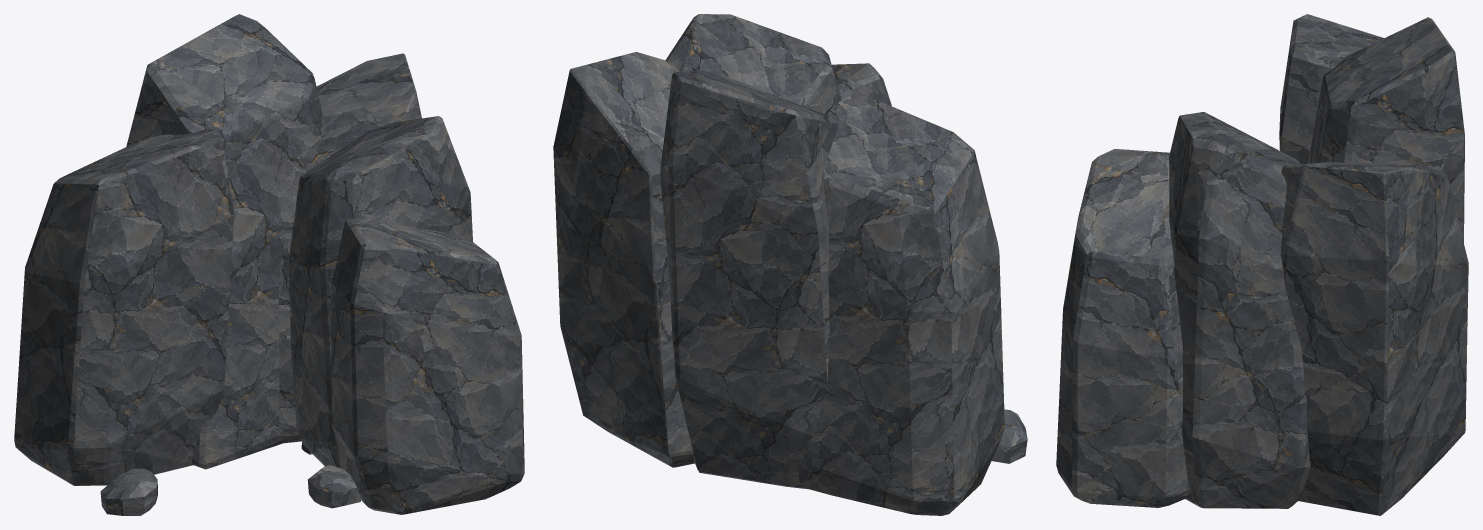
The model's file is Cave_R10_WallCorner.fbx.
3 views of the same model, side by side, from view 1: azimuth 30°, elevation 25°; view 2: azimuth 150°, elevation 25°; view 3: azimuth 270°, elevation 25° (orthographic). The views are drawn at different scales.
Parts seen in each view (by area): view 1: Cave_R10_WallCorner_LOD0; view 2: Cave_R10_WallCorner_LOD0; view 3: Cave_R10_WallCorner_LOD0.
Boxes of the visible parts, bbox=[...] form: Cave_R10_WallCorner_LOD0: bbox=[14, 14, 524, 515]; Cave_R10_WallCorner_LOD0: bbox=[553, 14, 1027, 515]; Cave_R10_WallCorner_LOD0: bbox=[1056, 14, 1468, 515].
Size of what is drawn, in the model's own units: 3.89 by 3.54 by 3.3.
1 material, 1 textured.
